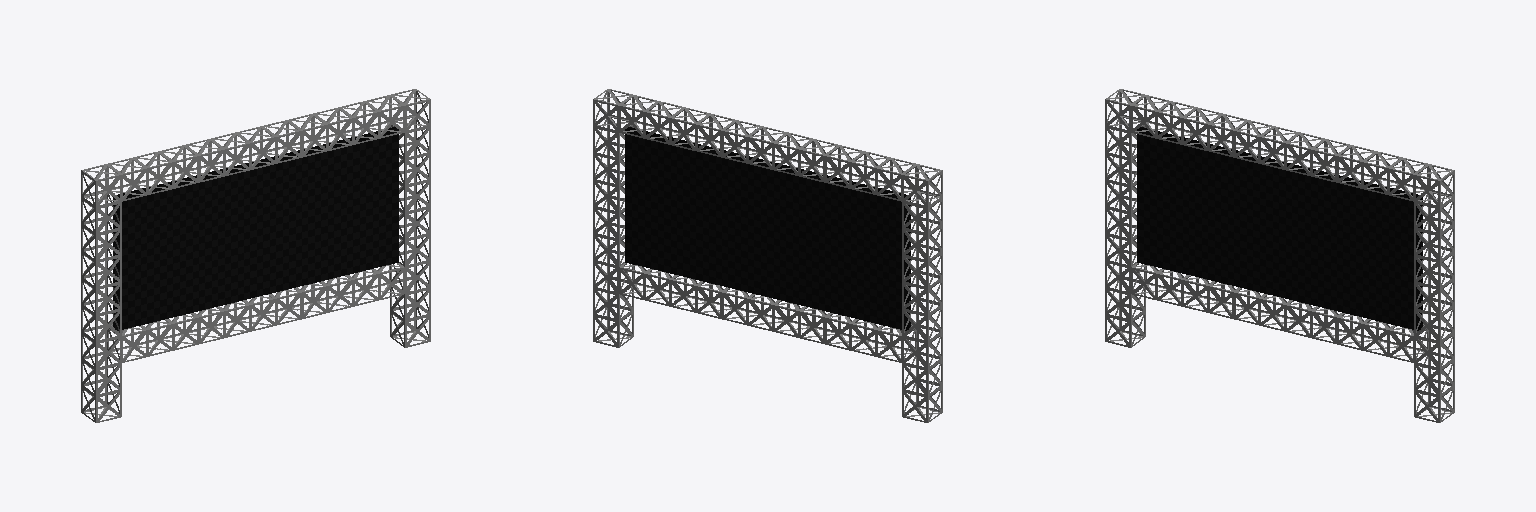
3 views of the same model, side by side, from view 1: azimuth 30°, elevation 25°; view 2: azimuth 150°, elevation 25°; view 3: azimuth 330°, elevation 25° (orthographic).
Visible parts, largest first — view 1: cuboid; view 2: cuboid; view 3: cuboid.
Boxes of the visible parts, x1=… form: cuboid: x1=81, y1=89, x2=430, y2=422; cuboid: x1=593, y1=89, x2=942, y2=422; cuboid: x1=1105, y1=89, x2=1454, y2=422.
Size of the model in its own units: 13 by 9 by 1.
Materials: 2 (2 with a texture image).